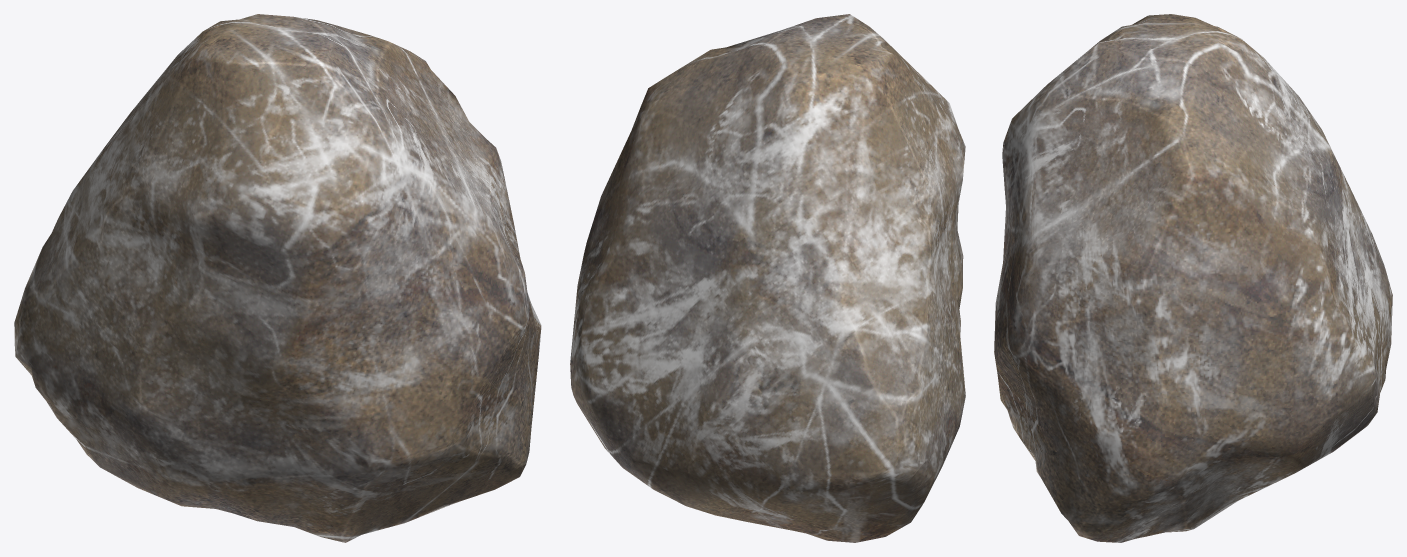
The model's file is SM_MetalNode_2a.fbx.
3 renders of one model, left to right at view 1: azimuth 30°, elevation 25°; view 2: azimuth 150°, elevation 25°; view 3: azimuth 270°, elevation 25°, orthographic. The views are drawn at different scales.
Parts seen in each view (by area): view 1: SM_MetalNode_2a_LOD0; view 2: SM_MetalNode_2a_LOD0; view 3: SM_MetalNode_2a_LOD0.
Boxes of the visible parts, x1,y1,x2,y2 form: SM_MetalNode_2a_LOD0: (14, 14, 541, 542); SM_MetalNode_2a_LOD0: (570, 14, 965, 542); SM_MetalNode_2a_LOD0: (994, 14, 1392, 542).
Size of what is drawn, in the model's own units: 0.9098 by 1.05 by 0.8231.
